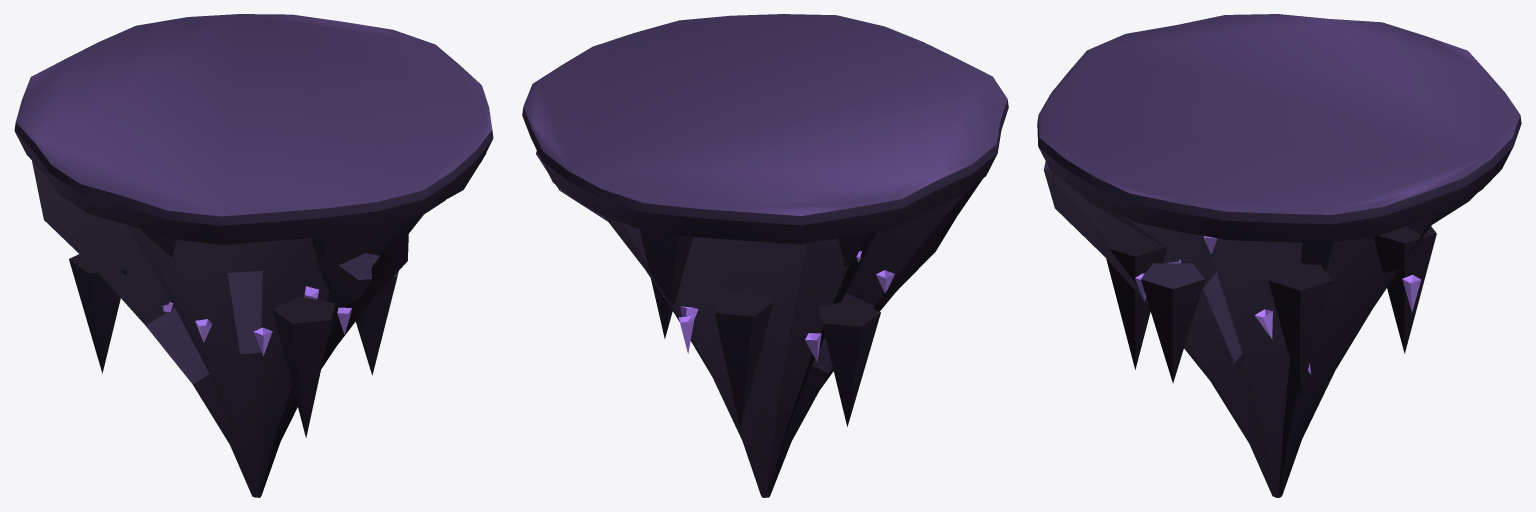
The model's file is void_island.glb.
3 renders of one model, left to right at view 1: azimuth 30°, elevation 25°; view 2: azimuth 150°, elevation 25°; view 3: azimuth 270°, elevation 25°, orthographic.
Parts seen in each view (by area): view 1: void_island, void_island_glow; view 2: void_island, void_island_glow; view 3: void_island, void_island_glow.
Boxes of the visible parts, box(x1,y1,x2,y2) form: void_island: box(14, 14, 493, 497); void_island_glow: box(161, 286, 351, 356); void_island: box(522, 14, 1008, 497); void_island_glow: box(678, 251, 894, 361); void_island: box(1037, 14, 1521, 497); void_island_glow: box(1135, 236, 1421, 374).
Size of the model in its own units: 1.98 by 1.75 by 2.
